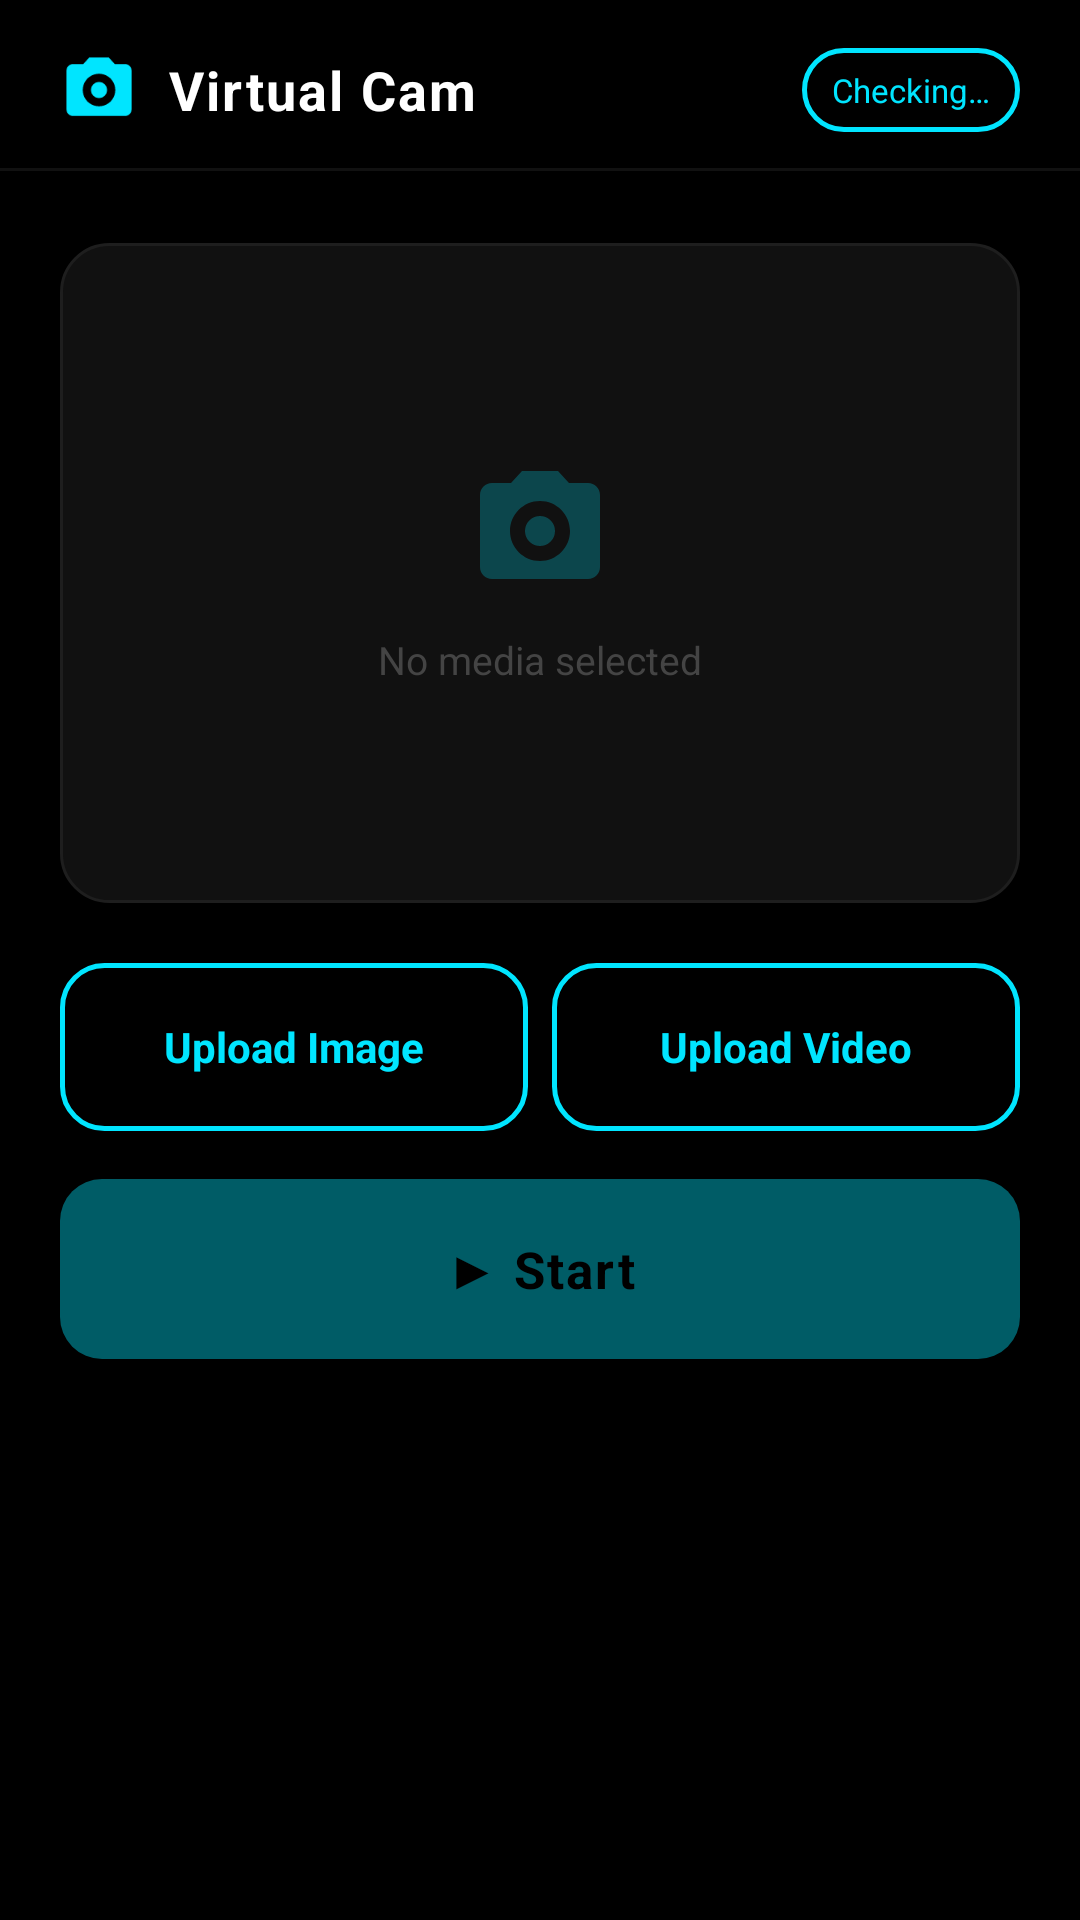

Icons on this 1080×1920 Android screen, each with its box as rect(x1, y1, x2, y2):
camera vc: rect(66, 57, 132, 116), rect(480, 471, 600, 579)
